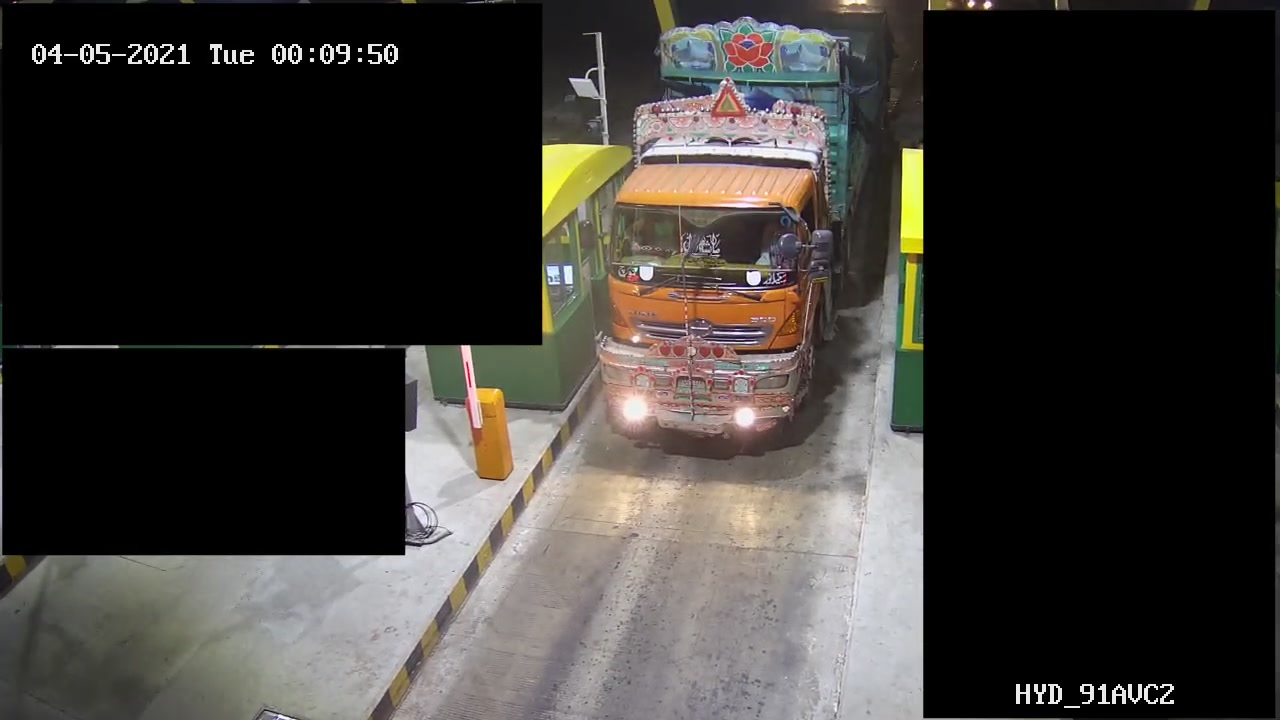F6: (585, 13, 877, 461)
